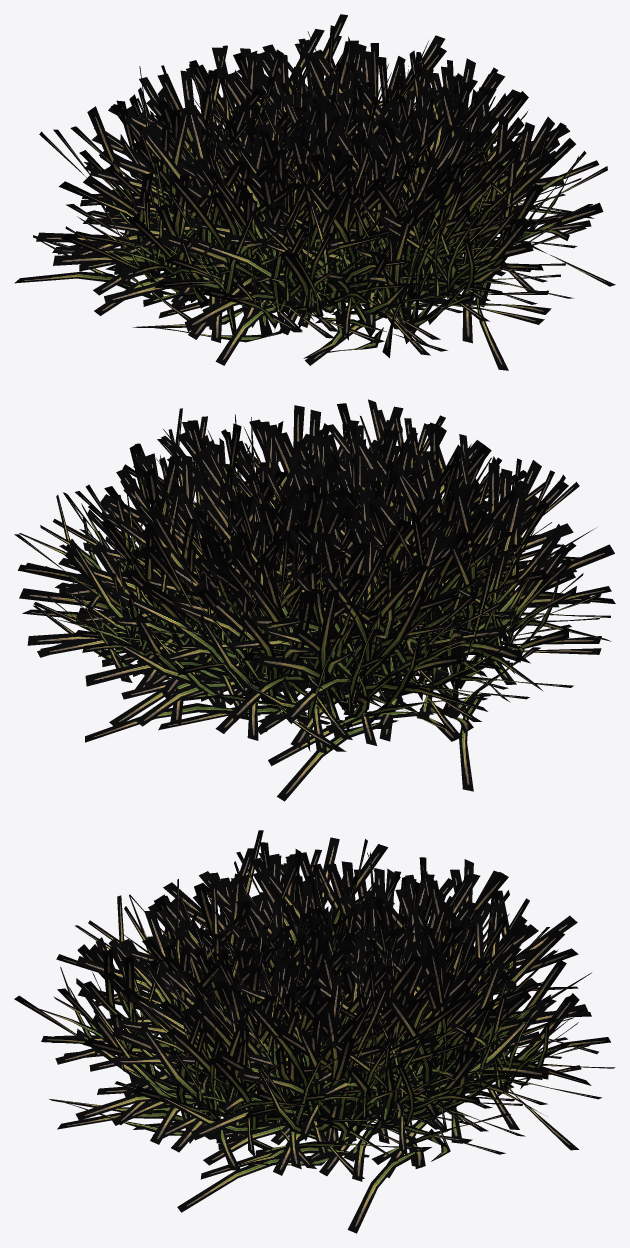
File: real_grass.fbx
3 views of the same model, one above another, from view 1: azimuth 30°, elevation 25°; view 2: azimuth 150°, elevation 25°; view 3: azimuth 270°, elevation 25° (orthographic). The views are drawn at different scales.
Parts seen in each view (by area): view 1: Object_2; view 2: Object_2; view 3: Object_2.
Part boxes in pixels (<box>): Object_2: <box>14,14,615,370</box>; Object_2: <box>14,399,615,801</box>; Object_2: <box>14,830,615,1233</box>.
Size of the model in its own units: 4251 by 1510 by 4250.
1 material, 1 textured.
